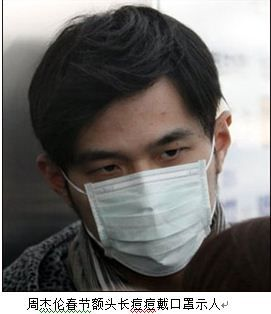mask: (58, 138, 230, 278)
